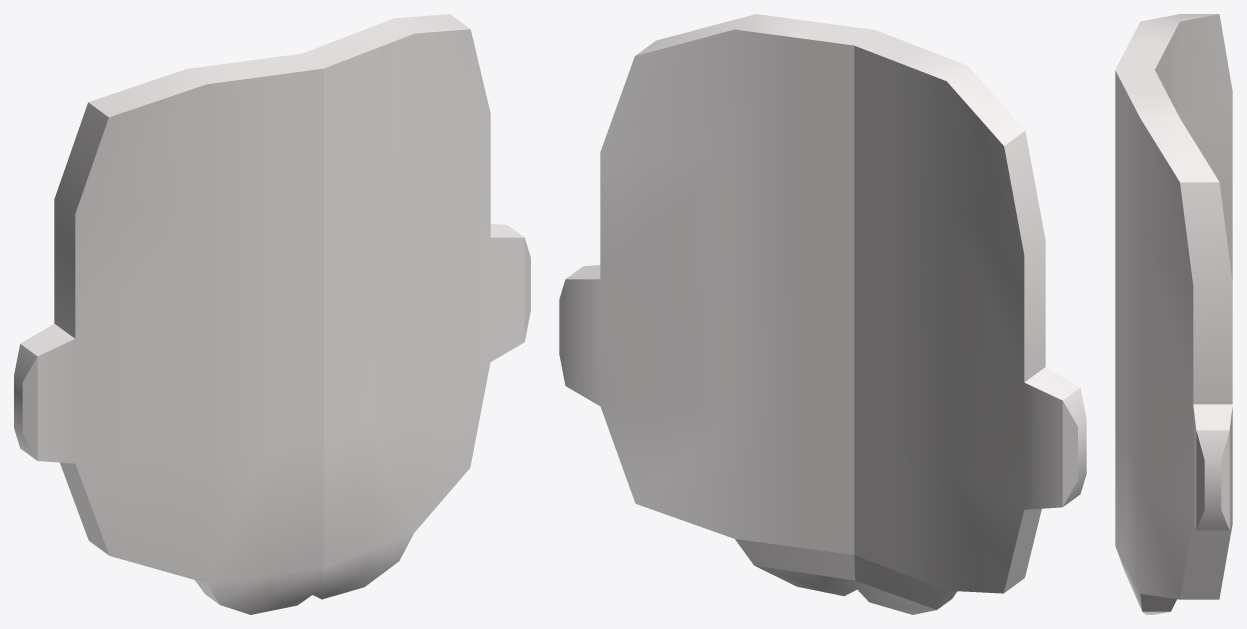
Rendered from mask_05.fbx.
3 renders of one model, left to right at view 1: azimuth 30°, elevation 25°; view 2: azimuth 150°, elevation 25°; view 3: azimuth 270°, elevation 25°, orthographic. The views are drawn at different scales.
Parts seen in each view (by area): view 1: Mask_05; view 2: Mask_05; view 3: Mask_05.
Boxes of the visible parts, bbox=[...] form: Mask_05: bbox=[14, 14, 530, 614]; Mask_05: bbox=[559, 14, 1086, 614]; Mask_05: bbox=[1115, 14, 1232, 614].
Bounding box in the file's own units: 126 × 129 × 26.49.
